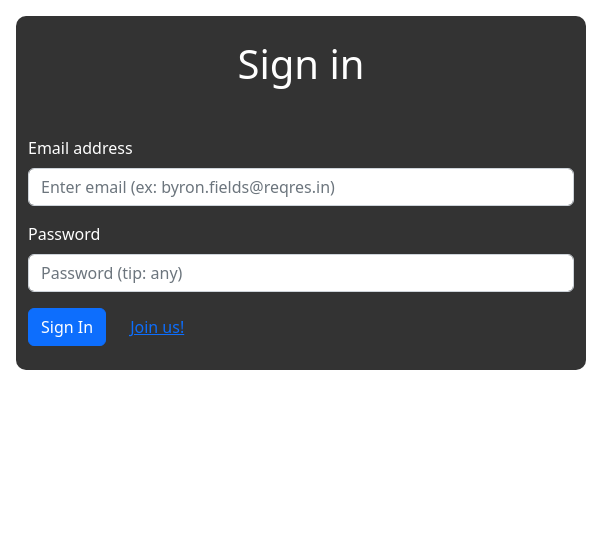
it: First open site › Goes to sign up
Step 1. Click the link "Join us!" → (157, 327), box left=130, top=315, right=184, bottom=339
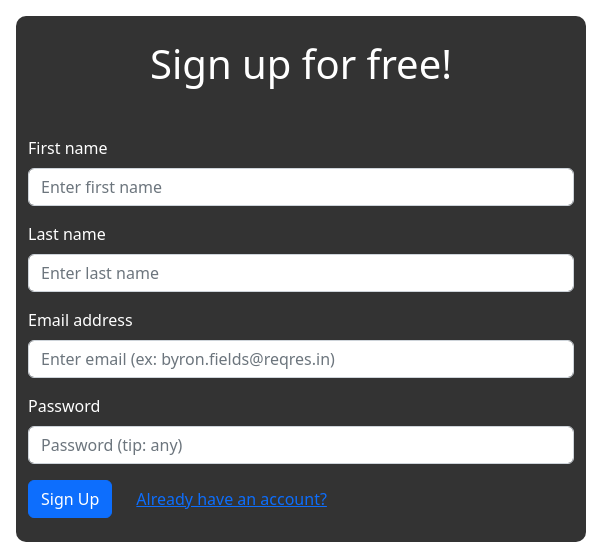
Result: the heading "Sign up for free!" is shown at left=150, top=36, right=452, bottom=91
